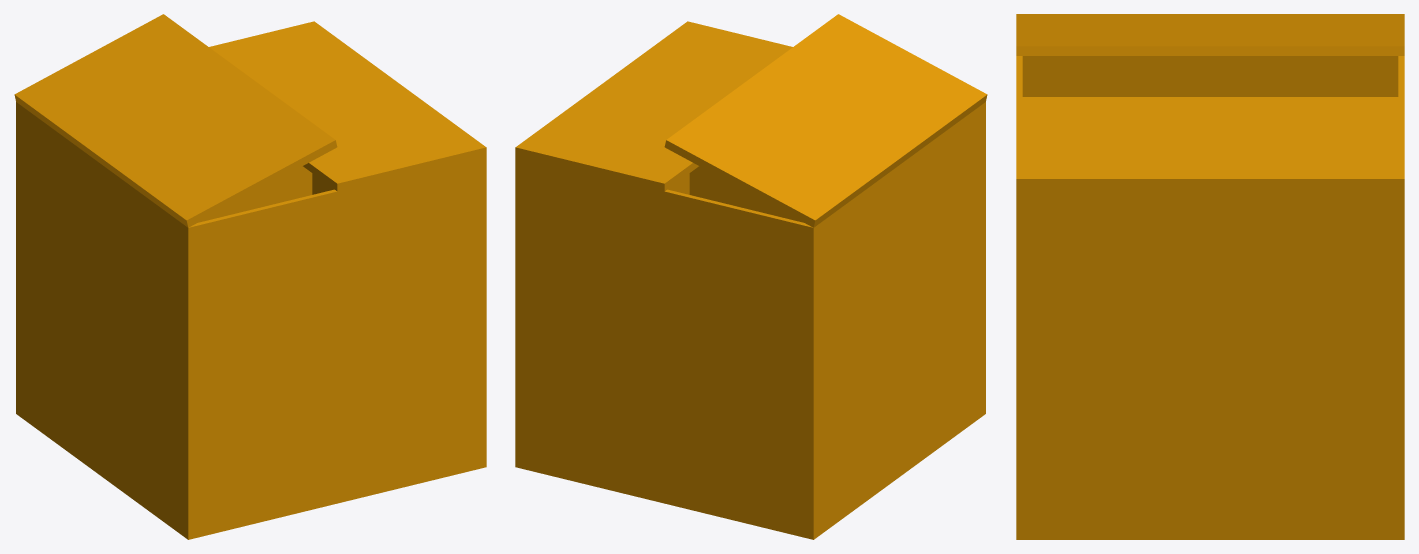
The picture shows the model from 3 angles, left to right: view 1: azimuth 30°, elevation 25°; view 2: azimuth 150°, elevation 25°; view 3: azimuth 270°, elevation 25°; orthographic projection. The views are drawn at different scales.
Parts seen in each view (by area): view 1: Cube; view 2: Cube; view 3: Cube.
Boxes of the visible parts, x1,y1,x2,y2 form: Cube: [14, 14, 486, 539]; Cube: [515, 14, 987, 539]; Cube: [1016, 14, 1404, 539].
Bounding box in the file's own units: 40.22 × 46.65 × 40.
